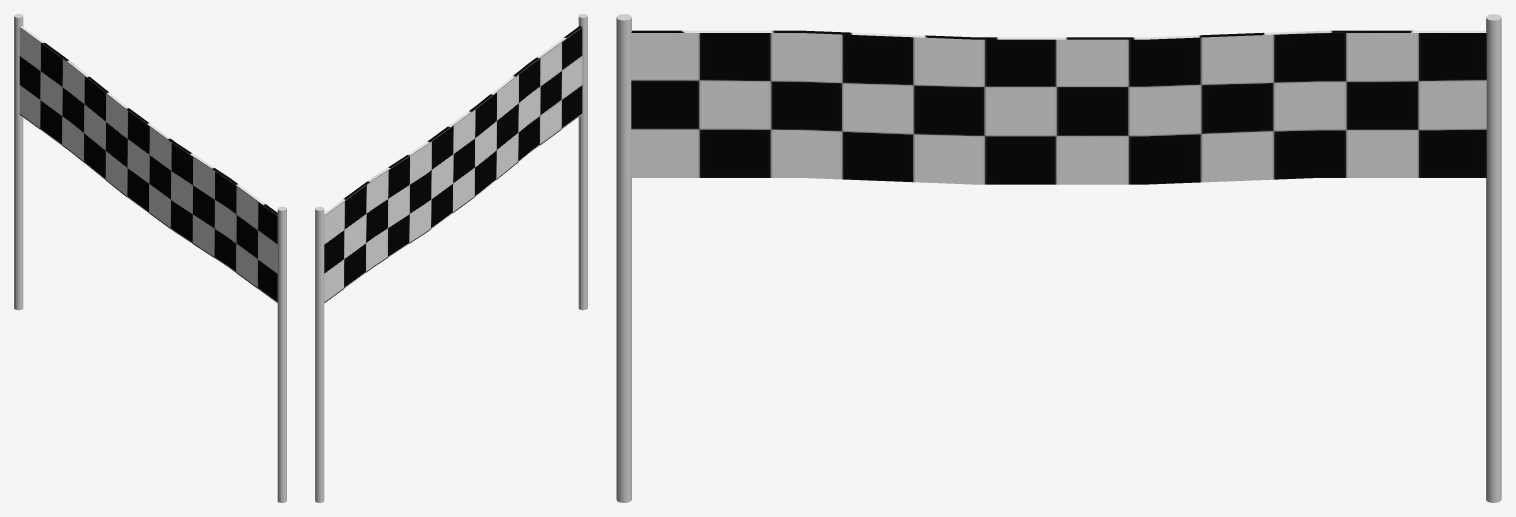
Rendered from FinishLine.fbx.
The picture shows the model from 3 angles, left to right: view 1: azimuth 30°, elevation 25°; view 2: azimuth 150°, elevation 25°; view 3: azimuth 270°, elevation 25°; orthographic projection. The views are drawn at different scales.
Visible parts, largest first — view 1: Cube, Cylinder, Cylinder.001; view 2: Cube, Cylinder.001, Cylinder; view 3: Cube, Cylinder, Cylinder.001.
Boxes of the visible parts, <box> form: Cube: <box>19,26,277,302</box>; Cylinder: <box>277,206,286,502</box>; Cylinder.001: <box>14,14,23,310</box>; Cube: <box>324,26,582,302</box>; Cylinder.001: <box>315,206,324,502</box>; Cylinder: <box>578,14,587,310</box>; Cube: <box>631,30,1486,184</box>; Cylinder: <box>616,14,631,502</box>; Cylinder.001: <box>1486,14,1501,502</box>.
Size of the model in its own units: 35.49 by 1218 by 2025.
